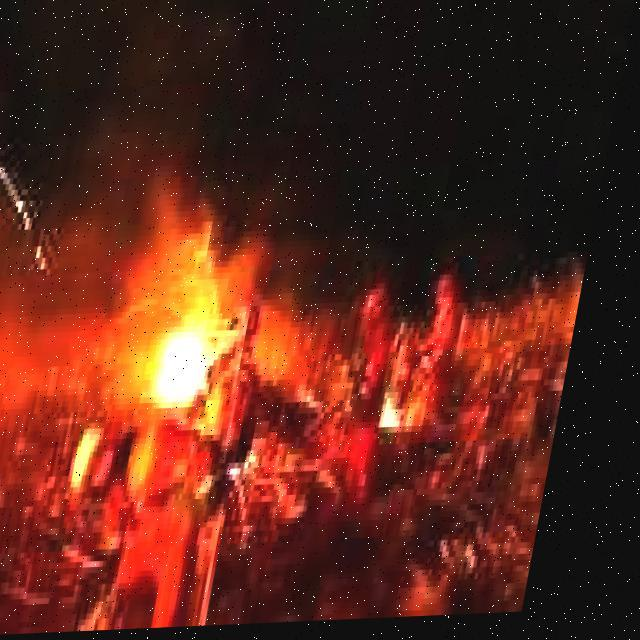Fire: (127, 247, 245, 412)
